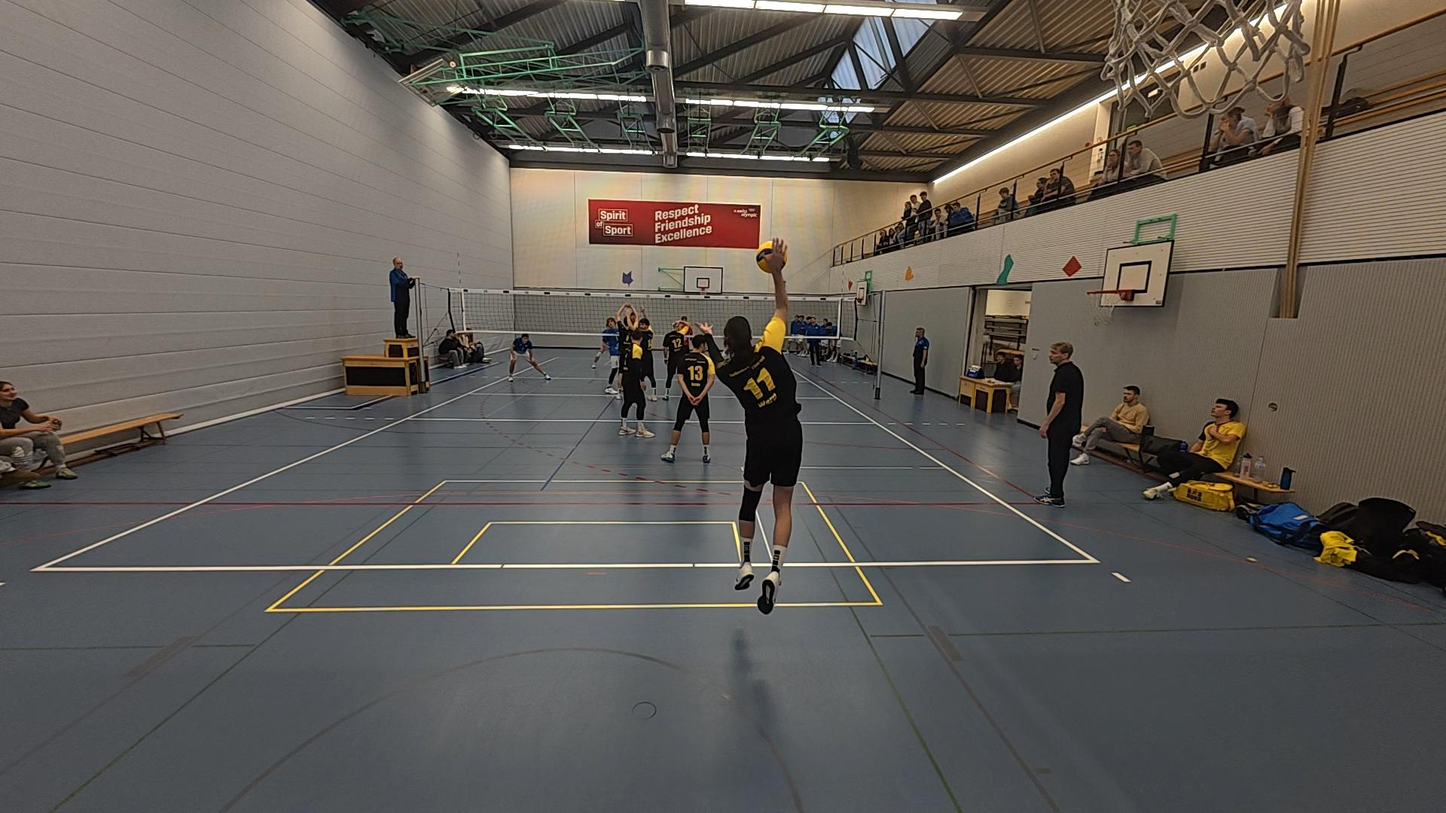Player: (660, 331, 713, 463), (615, 320, 654, 437), (599, 307, 628, 398), (660, 317, 690, 399), (508, 329, 551, 382), (691, 318, 721, 370)
Serve: (709, 251, 807, 611)
ball: (753, 239, 787, 271)
